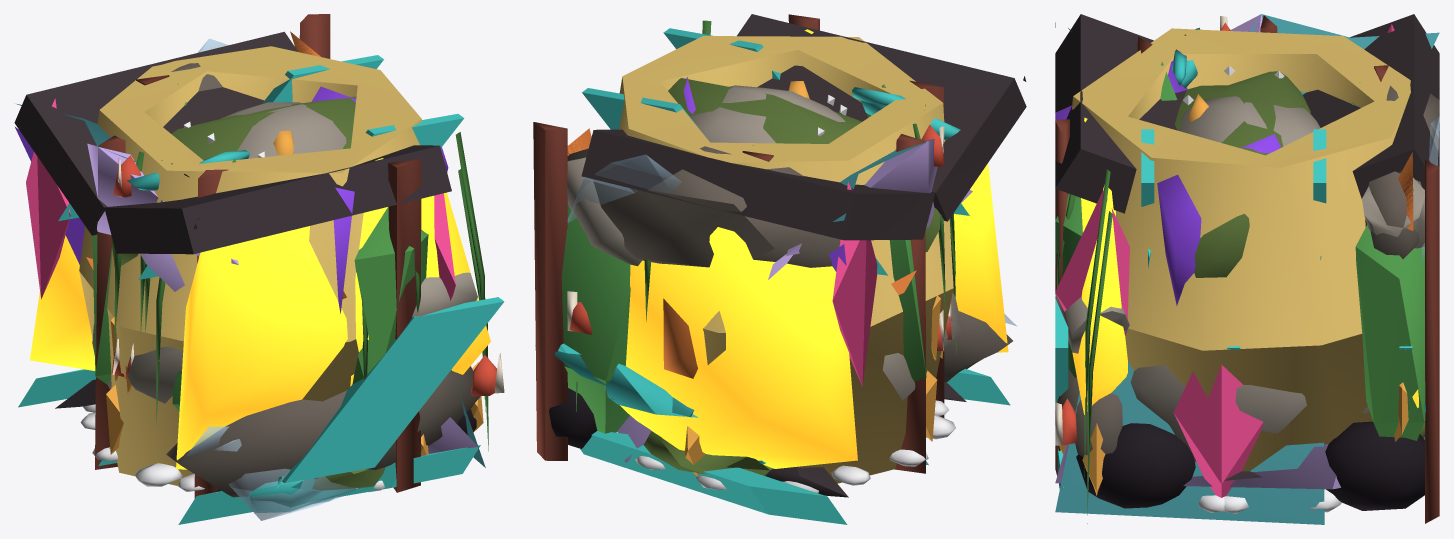
Rendered from maitre-geants-leger.glb.
3 renders of one model, left to right at view 1: azimuth 30°, elevation 25°; view 2: azimuth 150°, elevation 25°; view 3: azimuth 270°, elevation 25°, orthographic. The views are drawn at different scales.
Parts seen in each view (by area): view 1: maitre_geants_corps, maitre_geants_runes; view 2: maitre_geants_corps, maitre_geants_runes; view 3: maitre_geants_corps, maitre_geants_runes.
Part boxes in pixels (x1=…): maitre_geants_corps: x1=14, y1=14, x2=504, y2=520; maitre_geants_runes: x1=18, y1=55, x2=504, y2=524; maitre_geants_corps: x1=533, y1=14, x2=1026, y2=497; maitre_geants_runes: x1=580, y1=28, x2=1010, y2=524; maitre_geants_corps: x1=1055, y1=14, x2=1439, y2=524; maitre_geants_runes: x1=1055, y1=129, x2=1424, y2=489.
Bounding box in the file's own units: 2 × 2 × 2.
